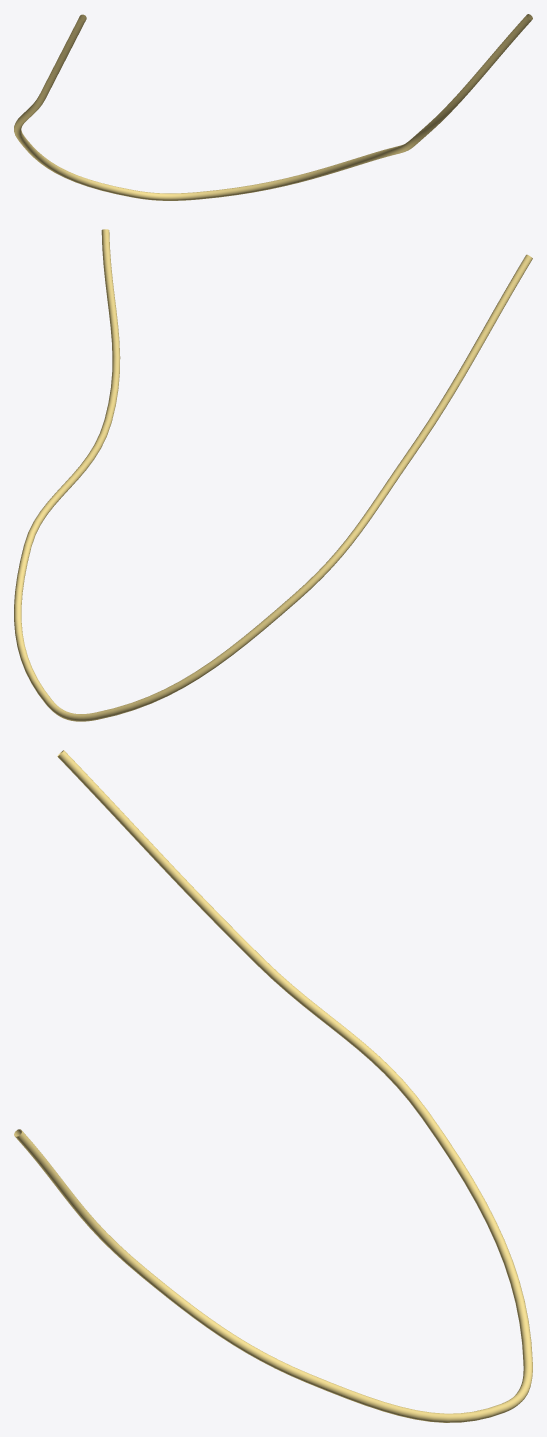
3 renders of one model, top to bottom at view 1: azimuth 30°, elevation 25°; view 2: azimuth 150°, elevation 25°; view 3: azimuth 270°, elevation 25°, orthographic. The views are drawn at different scales.
Visible parts, largest first — view 1: ZA_35011307f939d82a; view 2: ZA_35011307f939d82a; view 3: ZA_35011307f939d82a.
Part boxes in pixels (box(x1,y1,x2,y2)): ZA_35011307f939d82a: box(14, 14, 532, 200); ZA_35011307f939d82a: box(14, 229, 532, 721); ZA_35011307f939d82a: box(14, 750, 532, 1422).
Bounding box in the file's own units: 0.0666 × 0.0561 × 0.0544.
